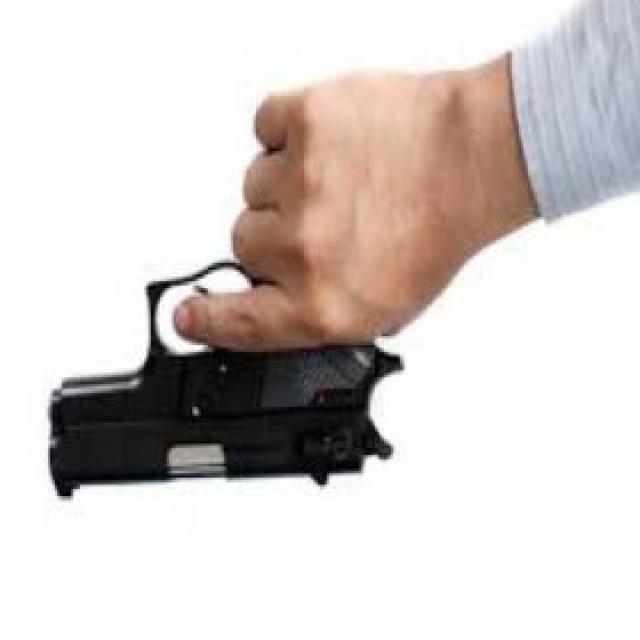pistol: (47, 247, 398, 503)
